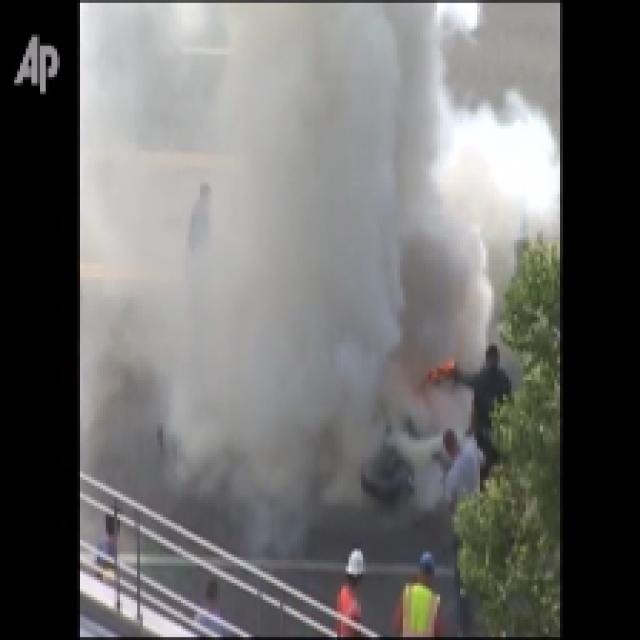smoke: (108, 35, 459, 424)
